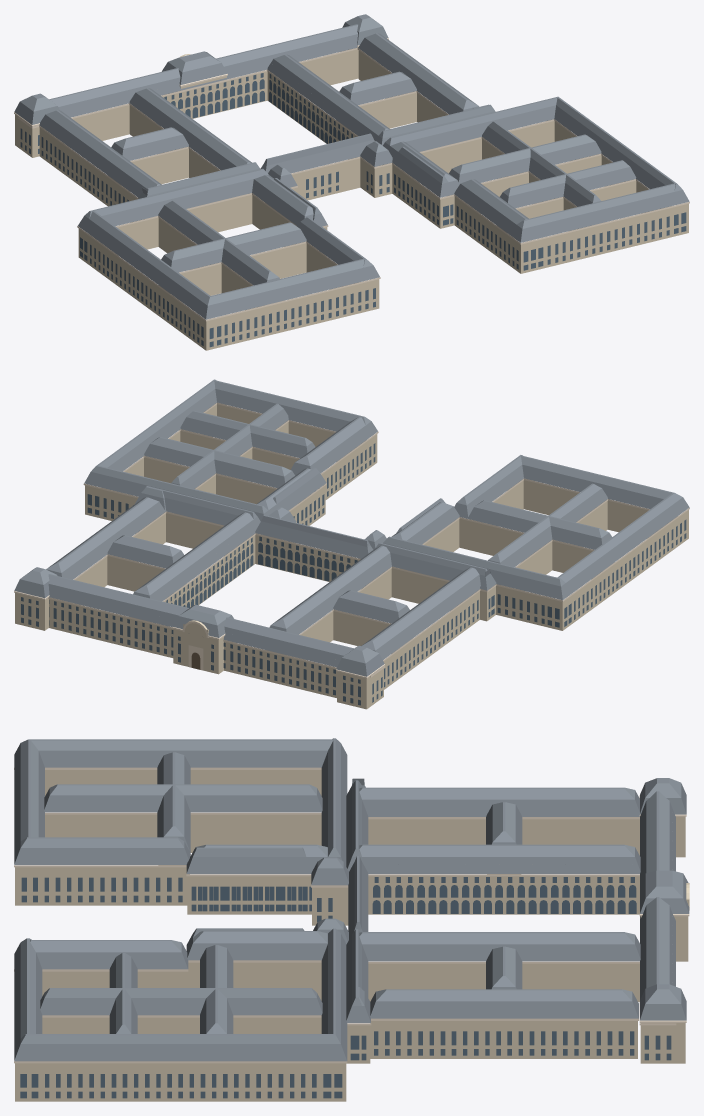
File: paris-invalides.glb
3 views of the same model, one above another, from view 1: azimuth 30°, elevation 25°; view 2: azimuth 150°, elevation 25°; view 3: azimuth 270°, elevation 25° (orthographic). The views are drawn at different scales.
Parts seen in each view (by area): view 1: Hôtel des Invalides; view 2: Hôtel des Invalides; view 3: Hôtel des Invalides.
Boxes of the visible parts, <box> form: Hôtel des Invalides: <box>14,14,689,350</box>; Hôtel des Invalides: <box>14,379,689,709</box>; Hôtel des Invalides: <box>14,738,689,1101</box>.
Size of the model in its own units: 274 by 28.5 by 255.
